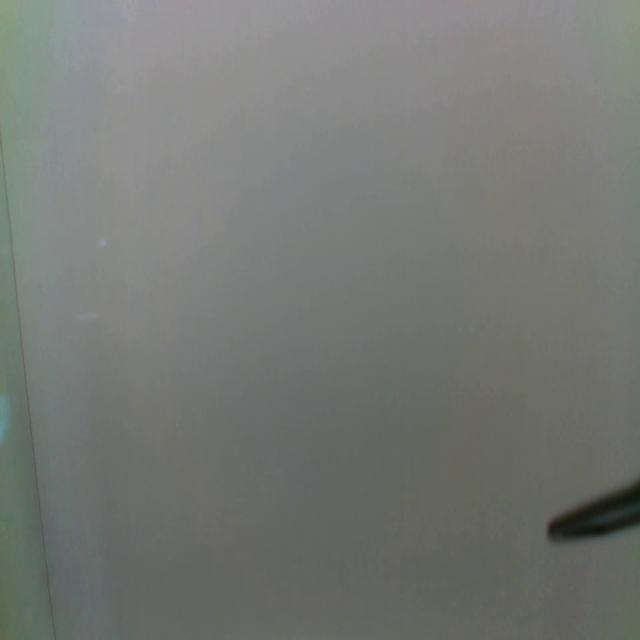crease: (0, 130, 56, 636)
